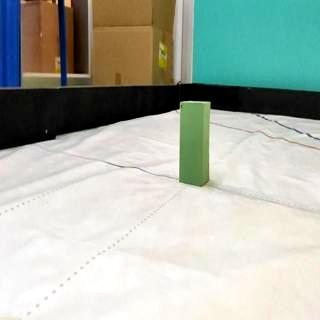greenbox: (180, 100, 212, 188)
